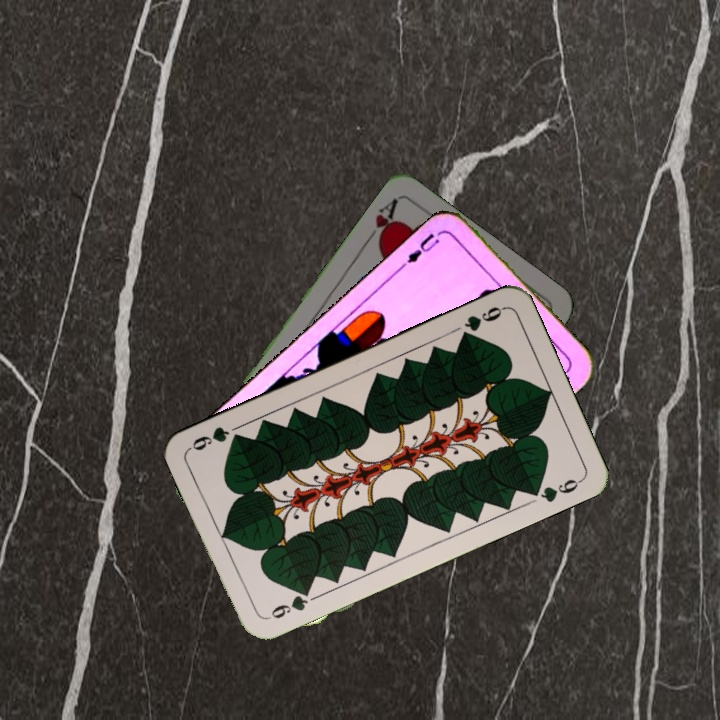EU: (398, 228, 442, 270)
G9: (262, 584, 319, 623), (456, 302, 507, 343)
HA: (361, 194, 401, 250)
